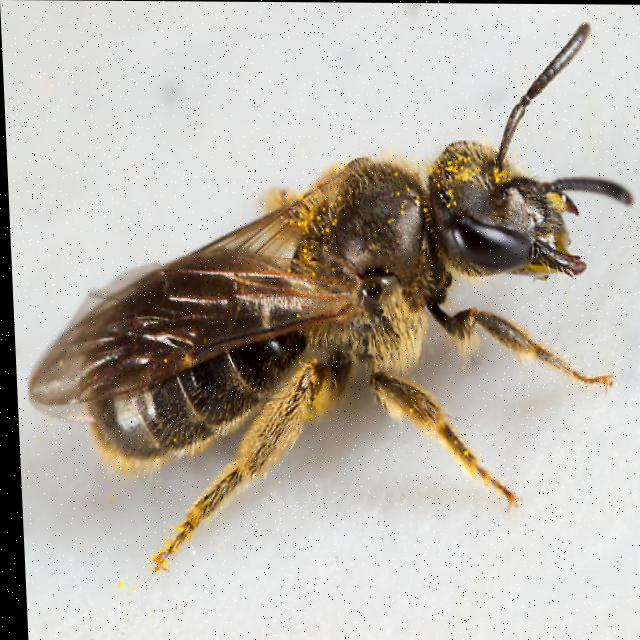Lasioglossum: (13, 28, 632, 551)
